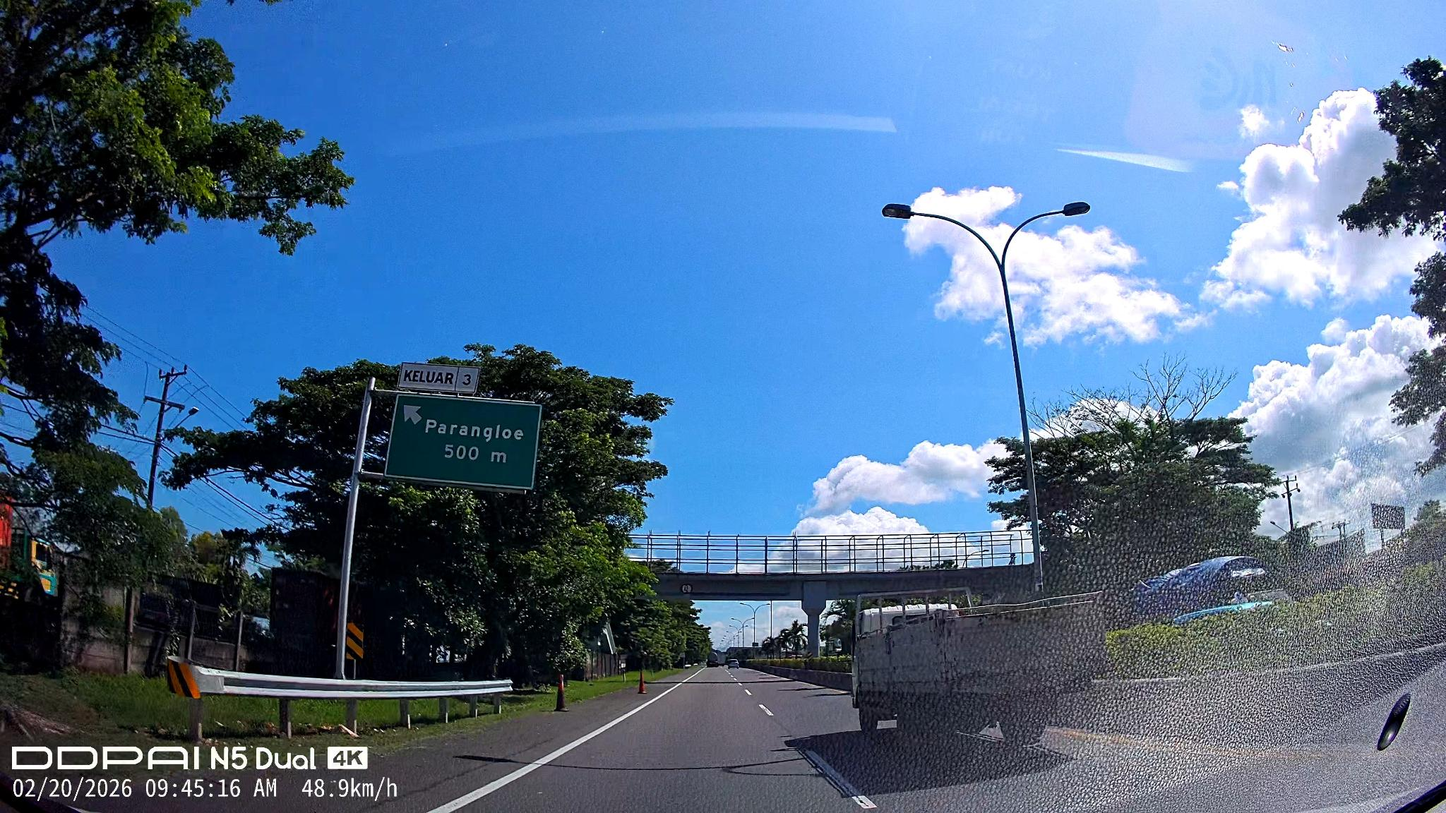rambu_teks: (383, 392, 543, 491)
